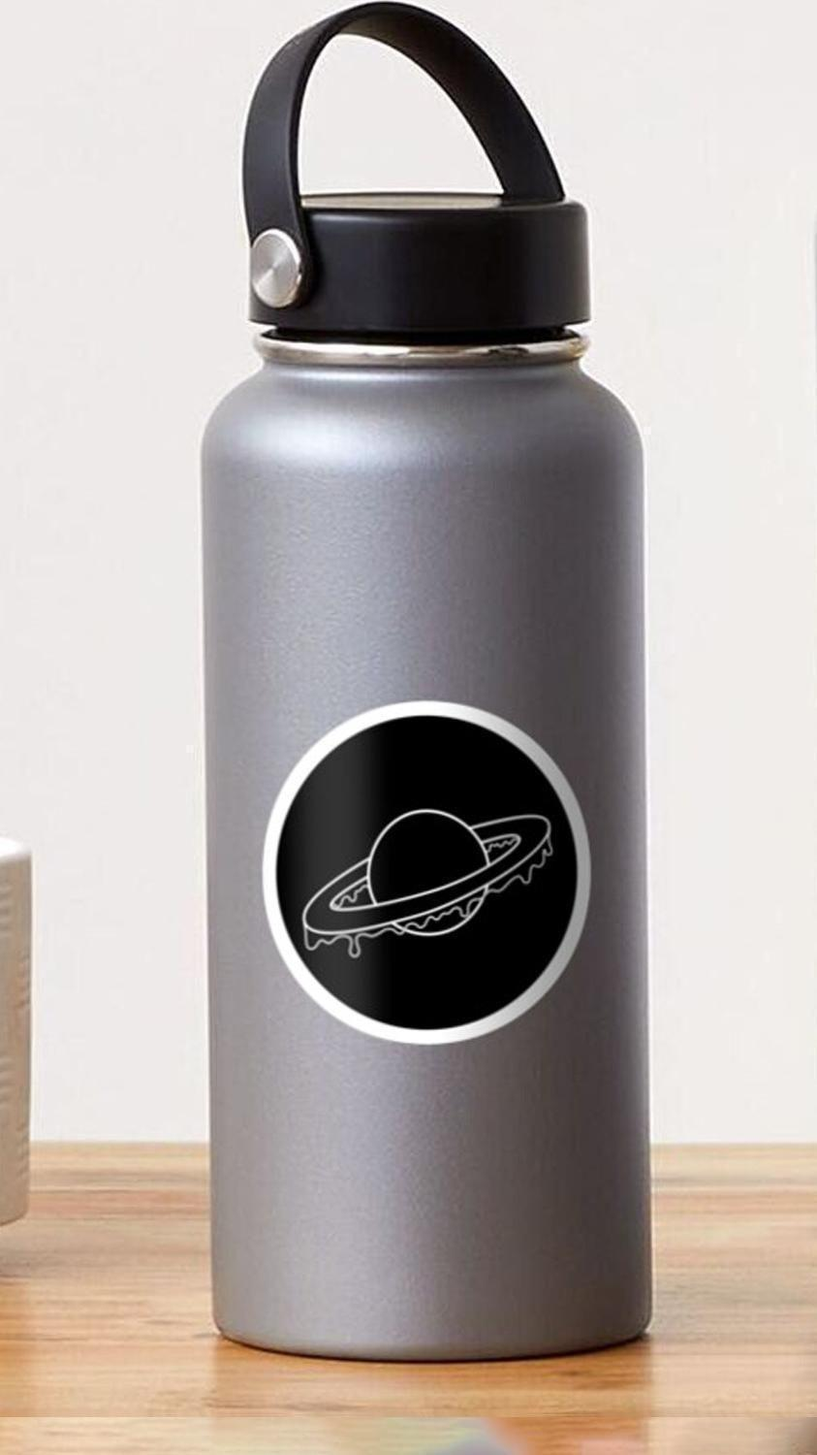gym bottle: (195, 1, 659, 1367)
